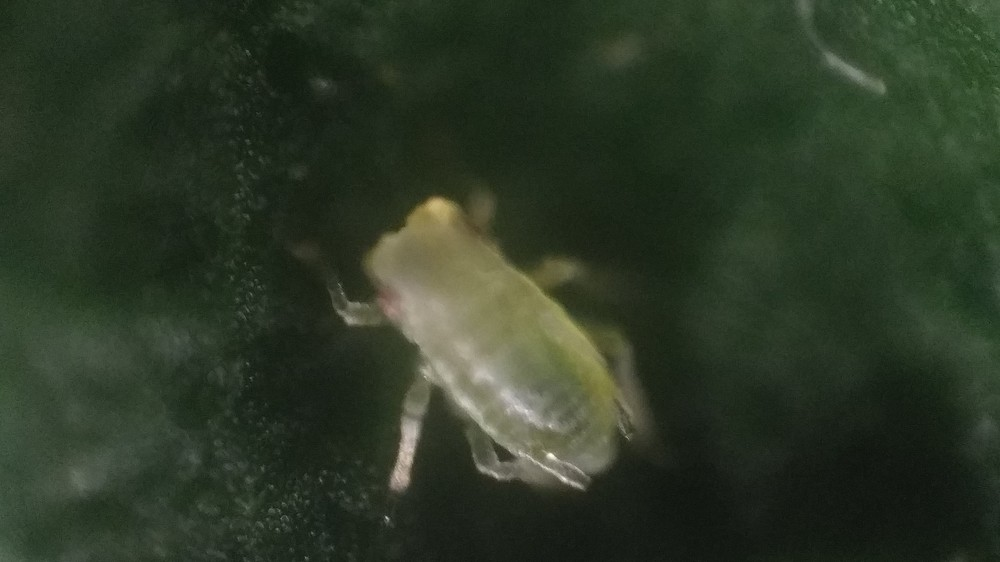Pulgon: (279, 152, 692, 524)
